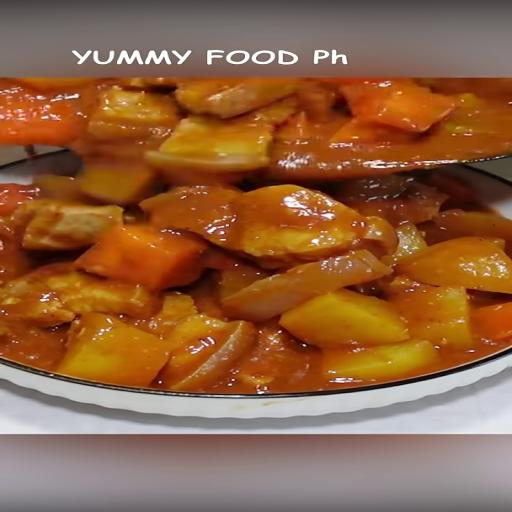pork caldereta: (0, 169, 511, 401)
